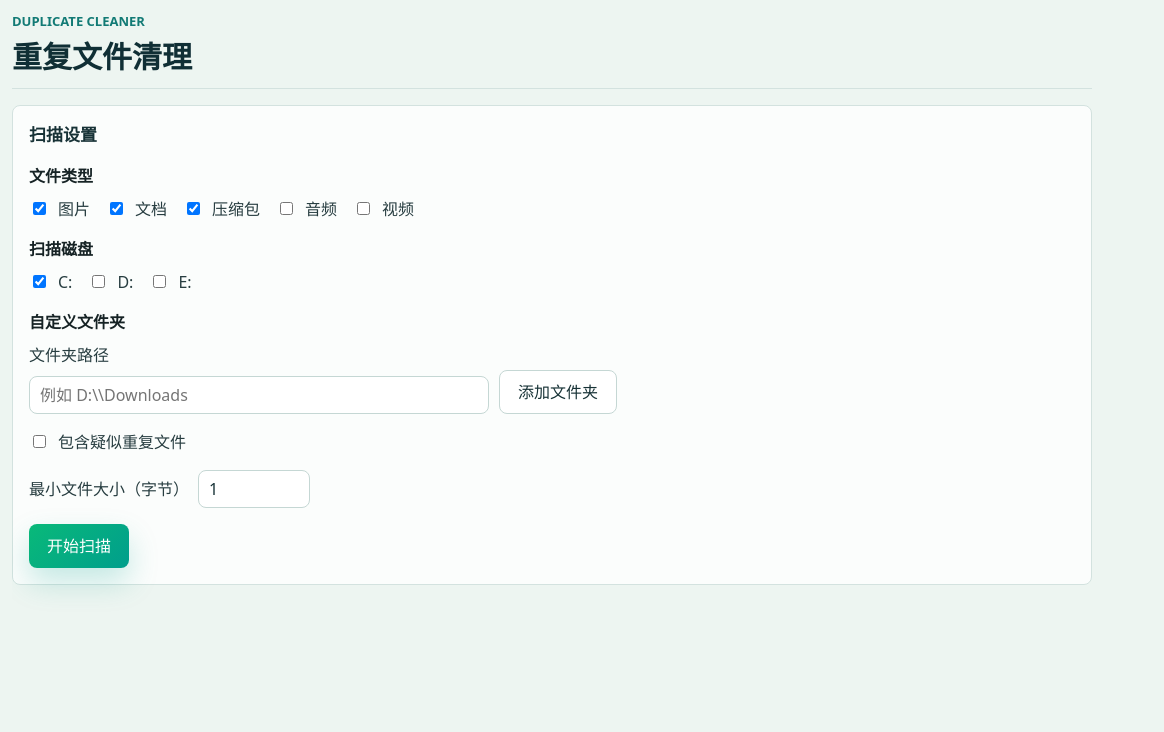
Scenario: DuplicateCleanerPage › shows scanning progress fields from operation events
This screenshot has width=1164, height=732.
Click the button "开始扫描" at (79, 546), box [29,524,129,568]
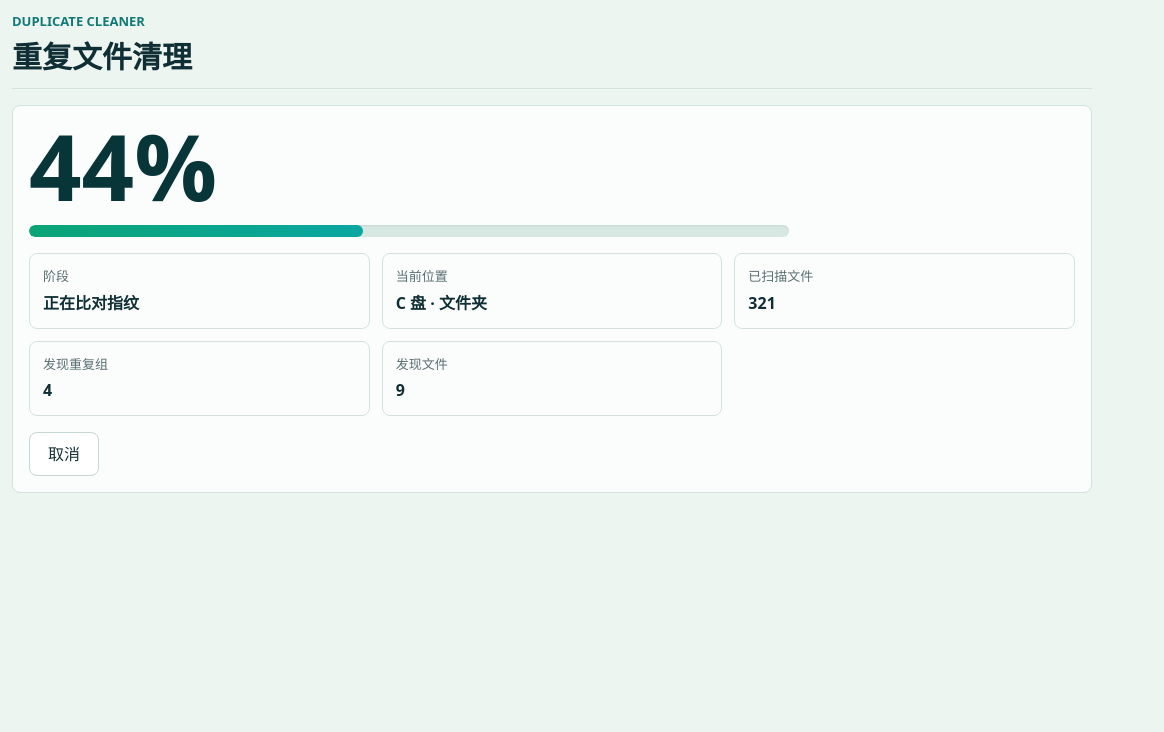
Result: the text "44%" is shown at [29,103,217,228]
Result: the text "正在比对指纹" is shown at [43,292,139,314]
Result: the text "C 盘 · 文件夹" is shown at [396,292,487,314]
